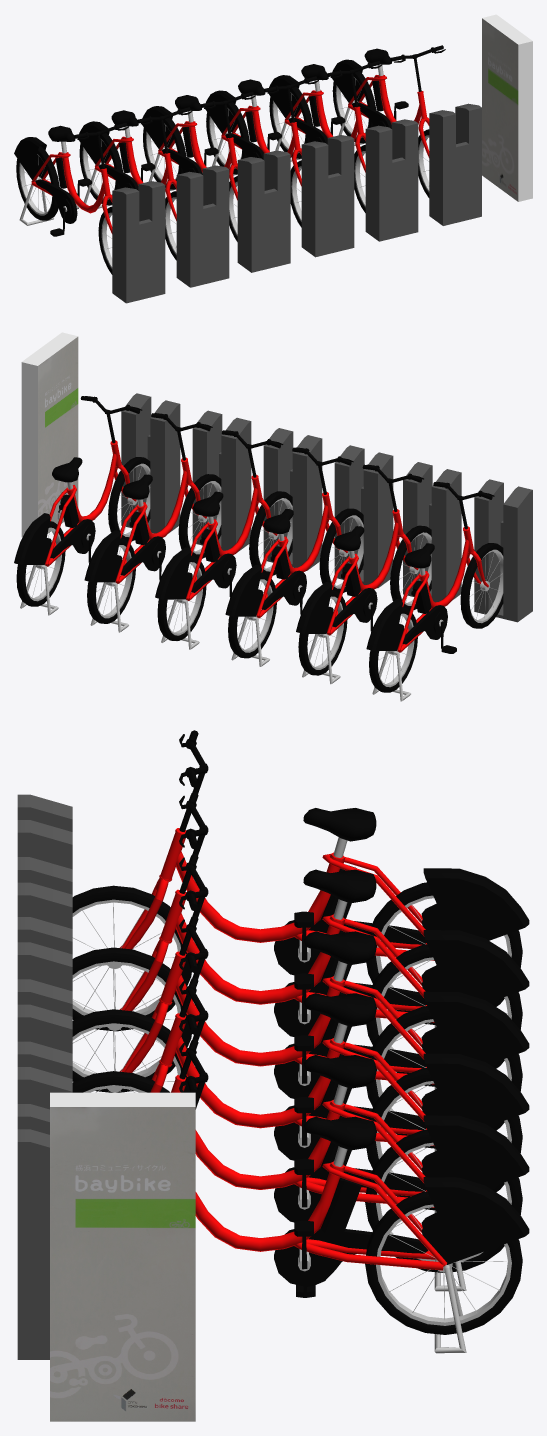
Rendered from 63baybike.glb.
The picture shows the model from 3 angles, top to bottom: view 1: azimuth 30°, elevation 25°; view 2: azimuth 150°, elevation 25°; view 3: azimuth 270°, elevation 25°; orthographic projection. The views are drawn at different scales.
Visible parts, largest first — view 1: BayBike_Kanban, Box002, Box003, Box005, Box006, Box004, BayBike.001, Box001, BayBike001, BayBike005, BayBike004, BayBike003 (+1 smaller); view 2: BayBike_Kanban, BayBike.001, BayBike002, BayBike003, BayBike004, BayBike005, BayBike001, Box005, Box001, Box002, Box006, Box003 (+1 smaller); view 3: BayBike_Kanban, BayBike005, BayBike001, BayBike.001, BayBike002, BayBike003, BayBike004, Box001, Box005, Box003, Box004, Box006 (+1 smaller).
Part boxes in pixels (x1,y1,x2,y2): BayBike_Kanban: (482, 14, 532, 201); Box002: (365, 119, 418, 241); Box003: (301, 135, 354, 257); Box005: (112, 181, 165, 303); Box006: (176, 165, 229, 287); Box004: (237, 150, 290, 272); BayBike.001: (14, 122, 128, 274); Box001: (429, 103, 481, 225); BayBike001: (78, 107, 192, 260); BayBike005: (331, 45, 445, 197); BayBike004: (268, 61, 382, 212); BayBike003: (204, 76, 318, 227); BayBike_Kanban: (21, 332, 78, 537); BayBike.001: (366, 482, 503, 701); BayBike002: (225, 447, 363, 666); BayBike003: (155, 430, 292, 649); BayBike004: (84, 413, 221, 632); BayBike005: (14, 396, 150, 615); BayBike001: (296, 464, 431, 684); Box005: (474, 479, 532, 622); Box001: (121, 393, 180, 533); Box002: (192, 410, 251, 552); Box006: (403, 462, 461, 602); Box003: (263, 428, 322, 570); BayBike_Kanban: (50, 1092, 195, 1421); BayBike005: (179, 1039, 529, 1353); BayBike001: (72, 792, 529, 1092); BayBike.001: (72, 730, 529, 1031); BayBike002: (72, 854, 529, 1151); BayBike003: (72, 915, 529, 1212); BayBike004: (171, 977, 529, 1291); Box001: (17, 1104, 49, 1359); Box005: (17, 794, 72, 869); Box003: (17, 979, 72, 1053); Box004: (17, 917, 72, 991); Box006: (17, 857, 72, 928).
Size of the model in its own units: 3.25 by 1.16 by 1.71.
7 materials, 1 textured.
